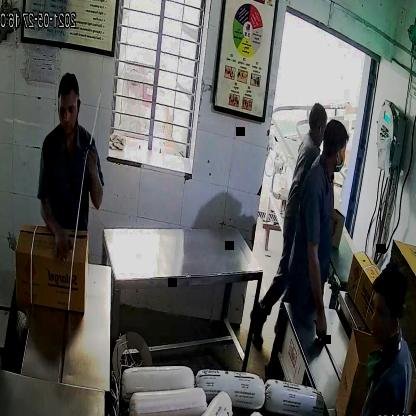no_goggles: (53, 98, 85, 122)
